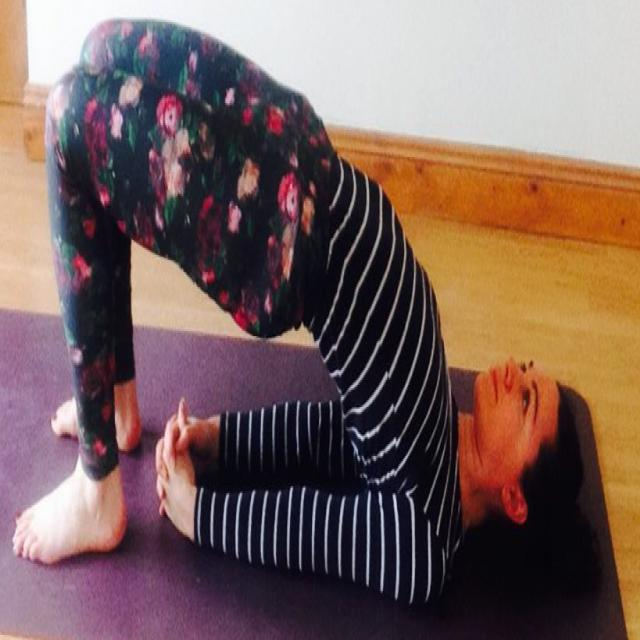yoga-pose bridge: (20, 13, 600, 602)
